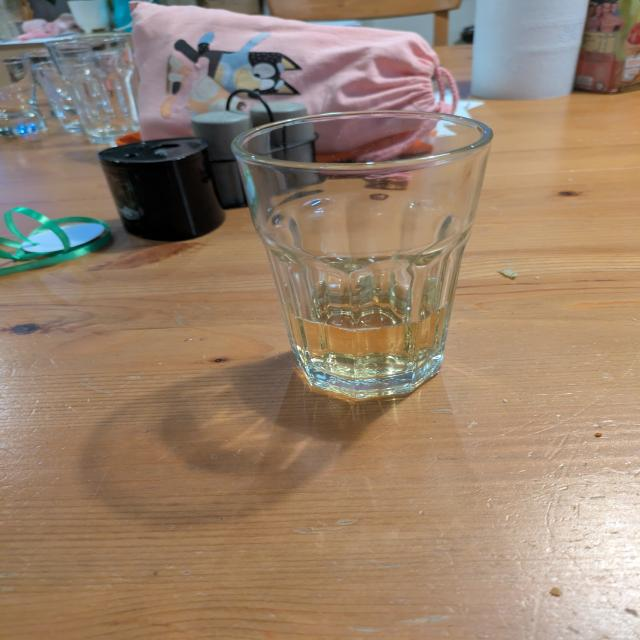filled g1: (229, 107, 495, 405)
liquid: (284, 282, 456, 378)
